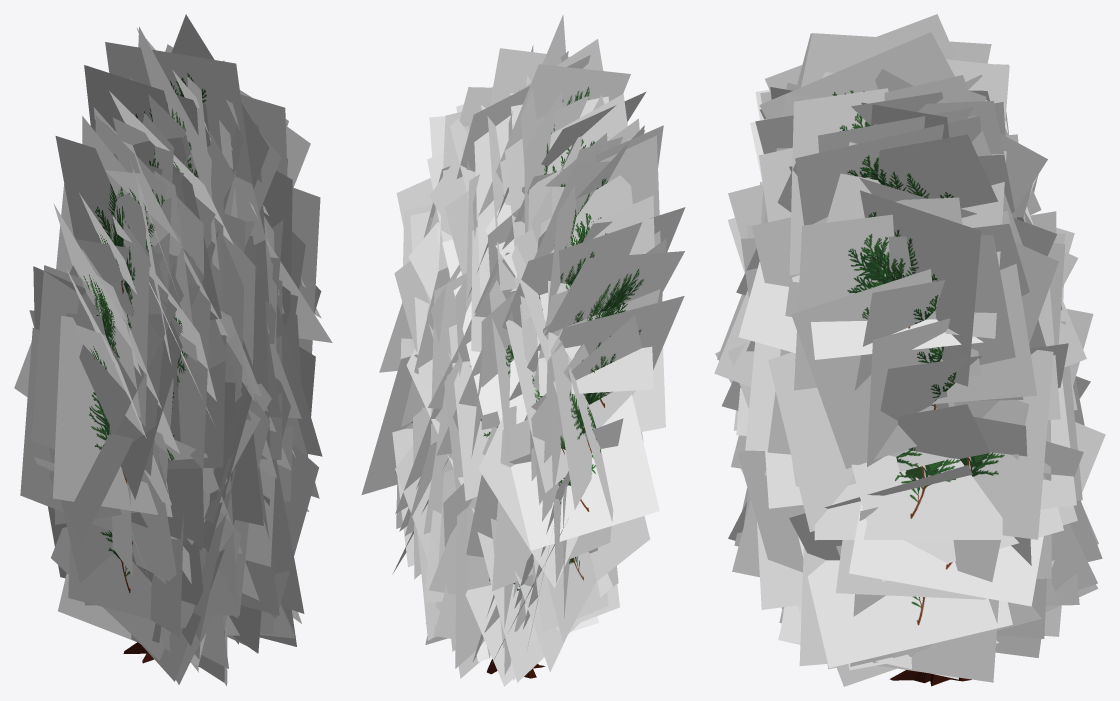
Rendered from thuja03.fbx.
3 views of the same model, side by side, from view 1: azimuth 30°, elevation 25°; view 2: azimuth 150°, elevation 25°; view 3: azimuth 270°, elevation 25° (orthographic). The views are drawn at different scales.
Visible parts, largest first — view 1: thuja03; view 2: thuja03; view 3: thuja03.
Boxes of the visible parts, box(x1,y1,x2,y2) form: thuja03: box(14, 14, 332, 686); thuja03: box(361, 14, 685, 686); thuja03: box(714, 14, 1105, 686).
Bounding box in the file's own units: 260 × 700 × 379.
